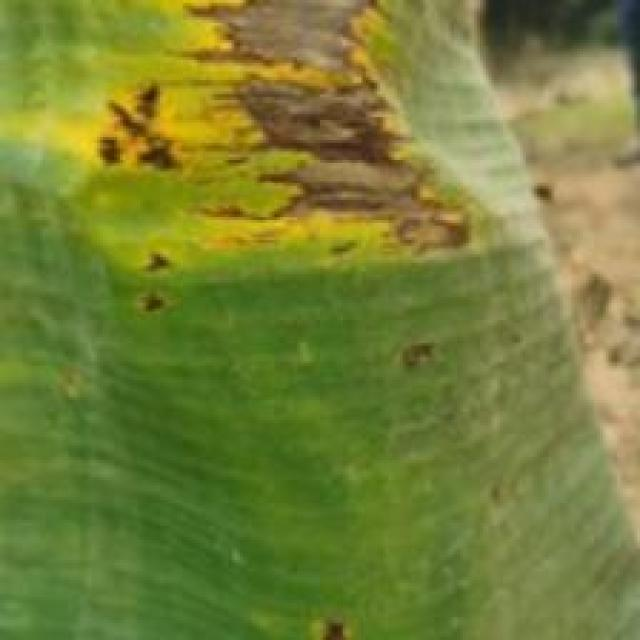Downey_mildrew: (5, 2, 499, 320), (272, 591, 377, 640)
